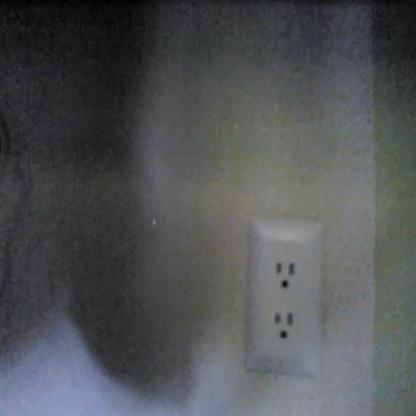OUTLET: (247, 216, 324, 379)
